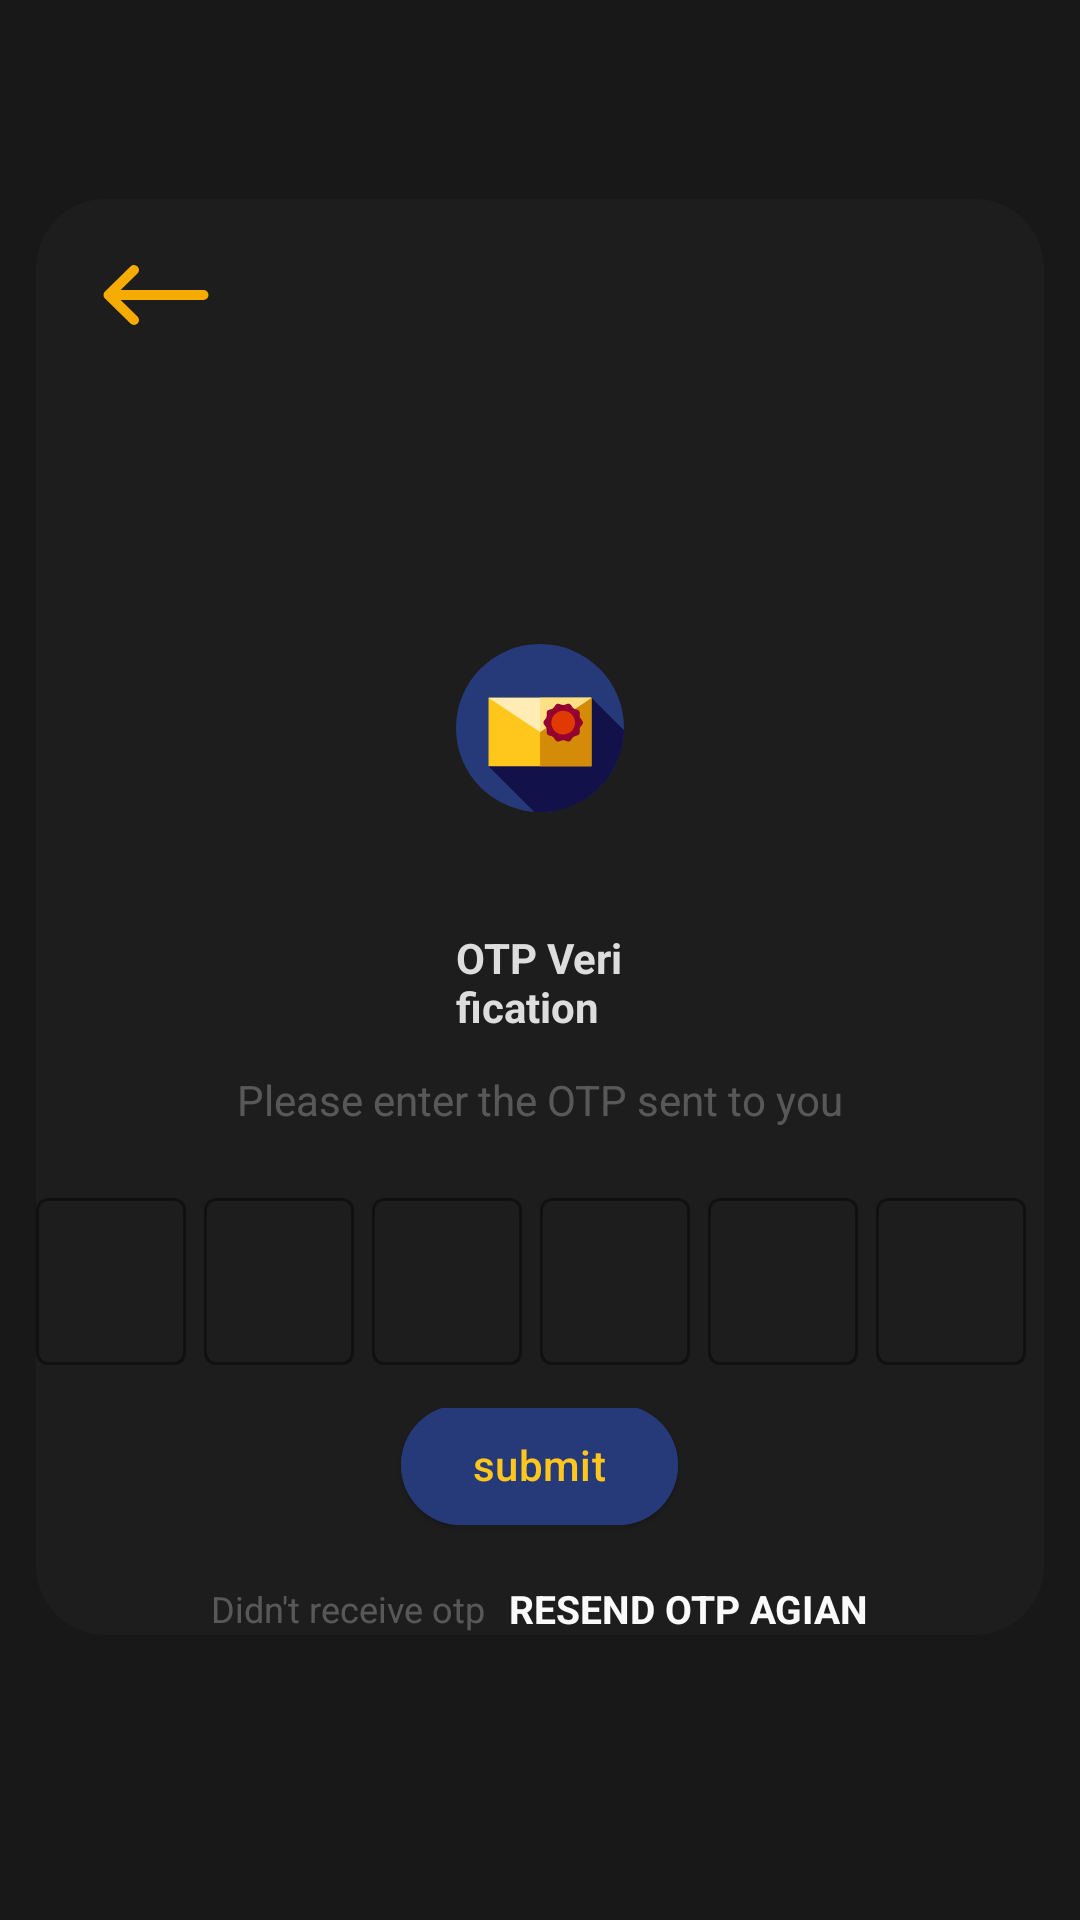

Point at icon controls on the screen. Image size 1080x1920, points as (x=x, y=y).
arrow left: (x=156, y=295)
envelope: (x=540, y=728)
